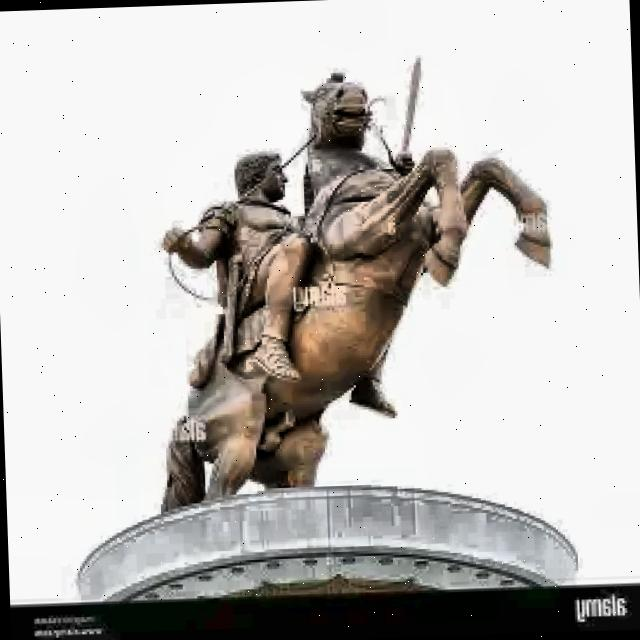alexander the great monument: (94, 46, 562, 547)
